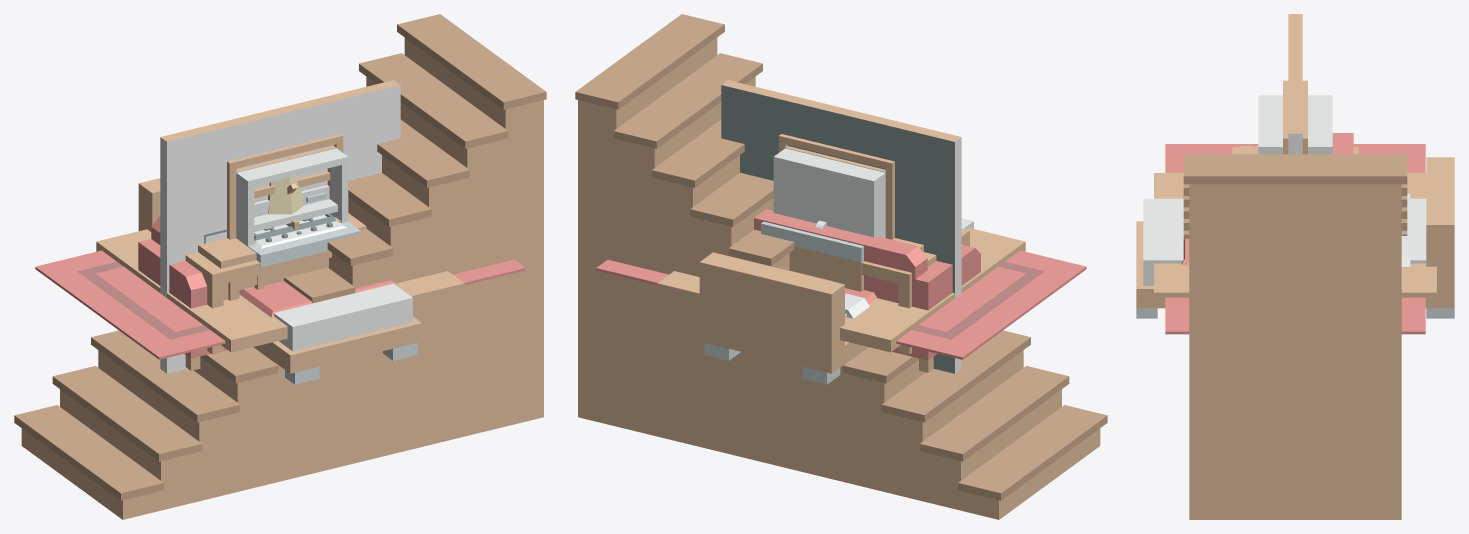
Rendered from furniture-kit.glb.
3 views of the same model, side by side, from view 1: azimuth 30°, elevation 25°; view 2: azimuth 150°, elevation 25°; view 3: azimuth 270°, elevation 25° (orthographic). The views are drawn at different scales.
Parts seen in each view (by area): view 1: stairs(Clone), wall(Clone), wallDoorway(Clone), Mesh bedSingle, rugRectangle(Clone), floorFull(Clone), Mesh kitchenFridge, Mesh wallWindow, loungeSofa(Clone), table(Clone), Mesh kitchenStove, Mesh doorway (+6 smaller); view 2: stairs(Clone), wall(Clone), Mesh bedSingle, rugRectangle(Clone), Mesh kitchenFridge, loungeSofa(Clone), wallDoorway(Clone), floorFull(Clone), Mesh wallWindow, Mesh kitchenCabinet, Mesh doorway, table(Clone) (+1 smaller); view 3: stairs(Clone), Mesh bedSingle, rugRectangle(Clone), floorFull(Clone), Mesh kitchenFridge, wall(Clone), Mesh doorway, cover, loungeSofa(Clone).
Part boxes in pixels (left/top/right/bottom): stairs(Clone): left=14, top=14, right=546, bottom=519; wall(Clone): left=160, top=80, right=400, bottom=373; wallDoorway(Clone): left=167, top=85, right=400, bottom=373; Mesh bedSingle: left=138, top=178, right=422, bottom=384; rugRectangle(Clone): left=35, top=250, right=525, bottom=359; floorFull(Clone): left=96, top=229, right=464, bottom=352; Mesh kitchenFridge: left=236, top=148, right=348, bottom=245; Mesh wallWindow: left=160, top=86, right=400, bottom=373; loungeSofa(Clone): left=138, top=215, right=226, bottom=370; table(Clone): left=185, top=251, right=331, bottom=354; Mesh kitchenStove: left=249, top=213, right=360, bottom=260; Mesh doorway: left=227, top=134, right=343, bottom=239; stairs(Clone): left=575, top=14, right=1107, bottom=519; wall(Clone): left=721, top=80, right=961, bottom=373; Mesh bedSingle: left=699, top=218, right=973, bottom=384; rugRectangle(Clone): left=596, top=250, right=1086, bottom=359; Mesh kitchenFridge: left=773, top=148, right=885, bottom=237; loungeSofa(Clone): left=754, top=209, right=980, bottom=372; wallDoorway(Clone): left=721, top=86, right=954, bottom=373; floorFull(Clone): left=657, top=228, right=1025, bottom=352; Mesh wallWindow: left=721, top=87, right=961, bottom=373; Mesh kitchenCabinet: left=761, top=221, right=863, bottom=291; Mesh doorway: left=778, top=134, right=894, bottom=239; table(Clone): left=861, top=228, right=969, bottom=354; stairs(Clone): left=1183, top=154, right=1407, bottom=519; Mesh bedSingle: left=1136, top=157, right=1454, bottom=318; rugRectangle(Clone): left=1165, top=144, right=1425, bottom=334; floorFull(Clone): left=1154, top=173, right=1436, bottom=305; Mesh kitchenFridge: left=1258, top=95, right=1332, bottom=154; wall(Clone): left=1288, top=14, right=1302, bottom=154; Mesh doorway: left=1283, top=80, right=1307, bottom=154; cover: left=1181, top=193, right=1410, bottom=266; loungeSofa(Clone): left=1253, top=133, right=1353, bottom=154.
Size of the model in its own units: 59748 by 43890 by 36863.
